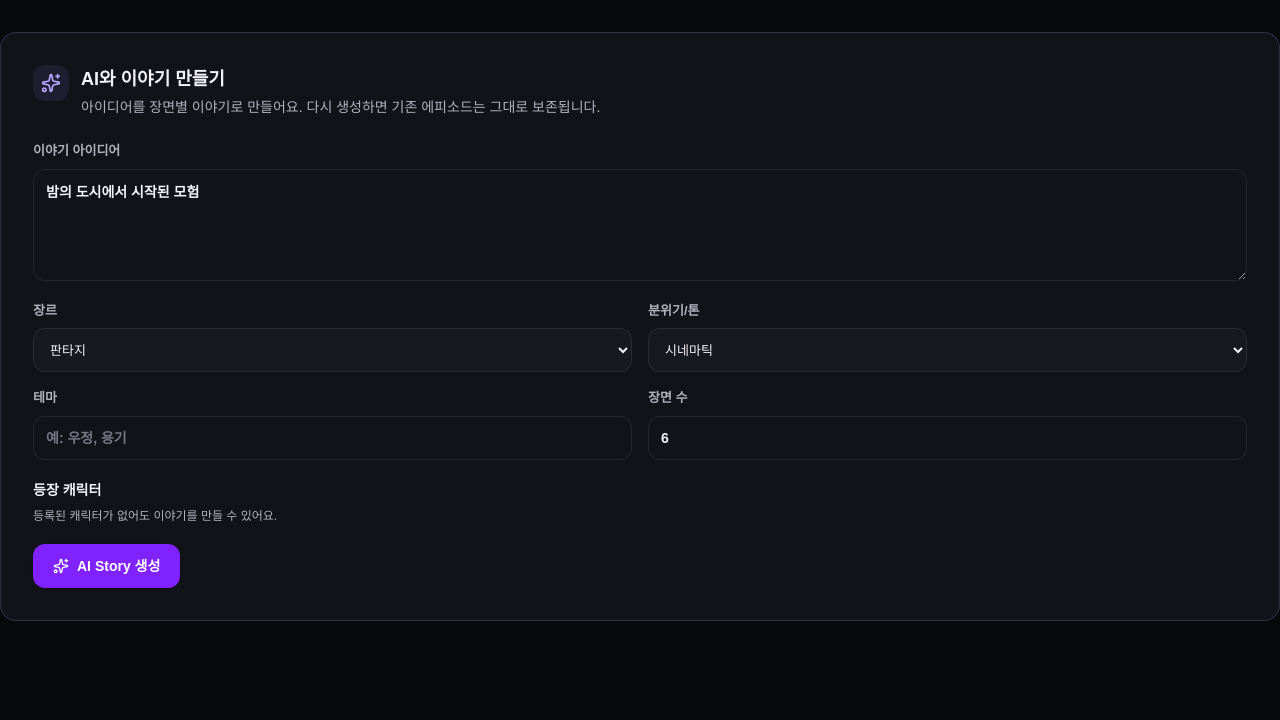
Test: StoryStudio › blocks duplicate submissions while POST is unresolved
Click the button "AI Story 생성" at (107, 566), box [33, 544, 180, 588]
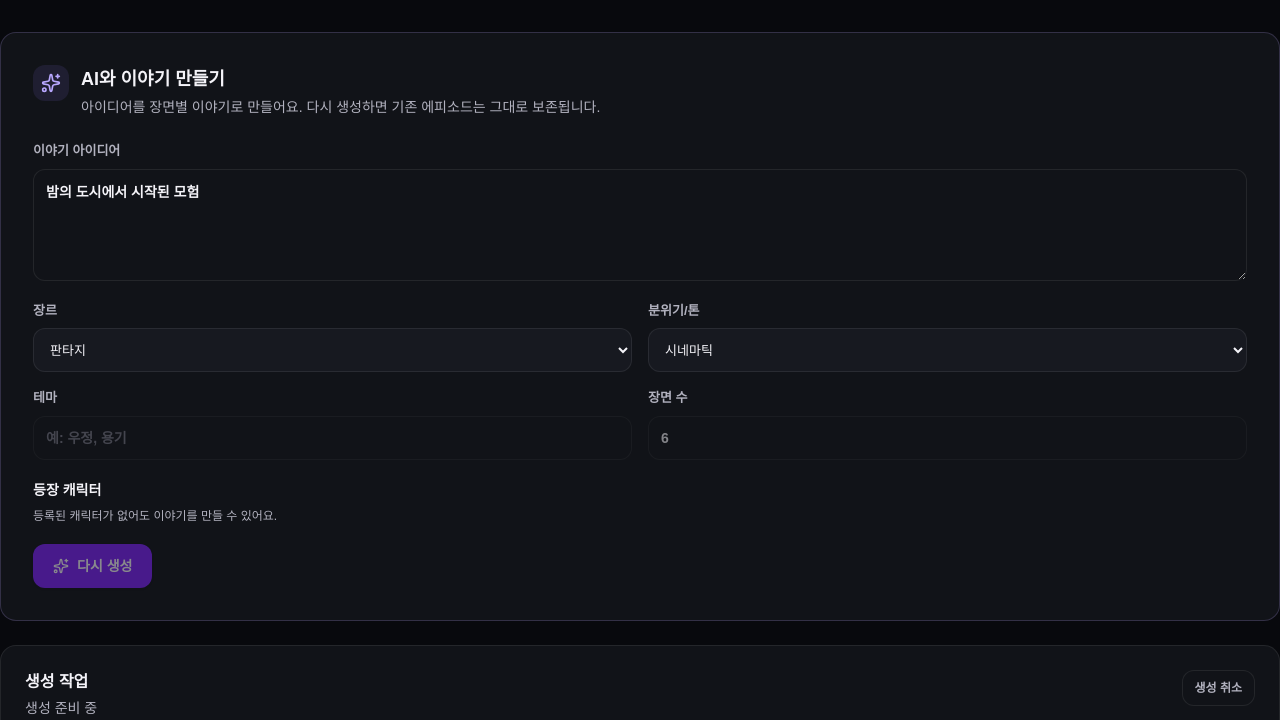
Result: the button named "요청하는 중" is disabled at [33, 544, 152, 588]
Result: the text "생성 준비 중" is shown at [25, 698, 97, 718]
